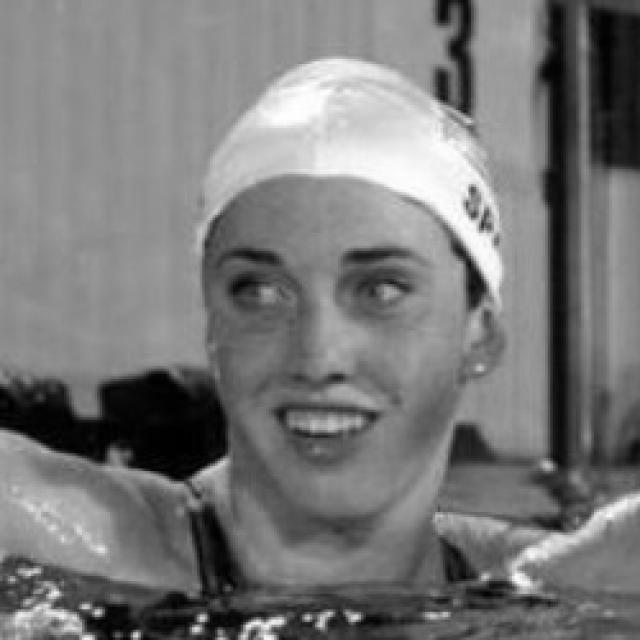real: (190, 94, 528, 515), (227, 259, 422, 321)
